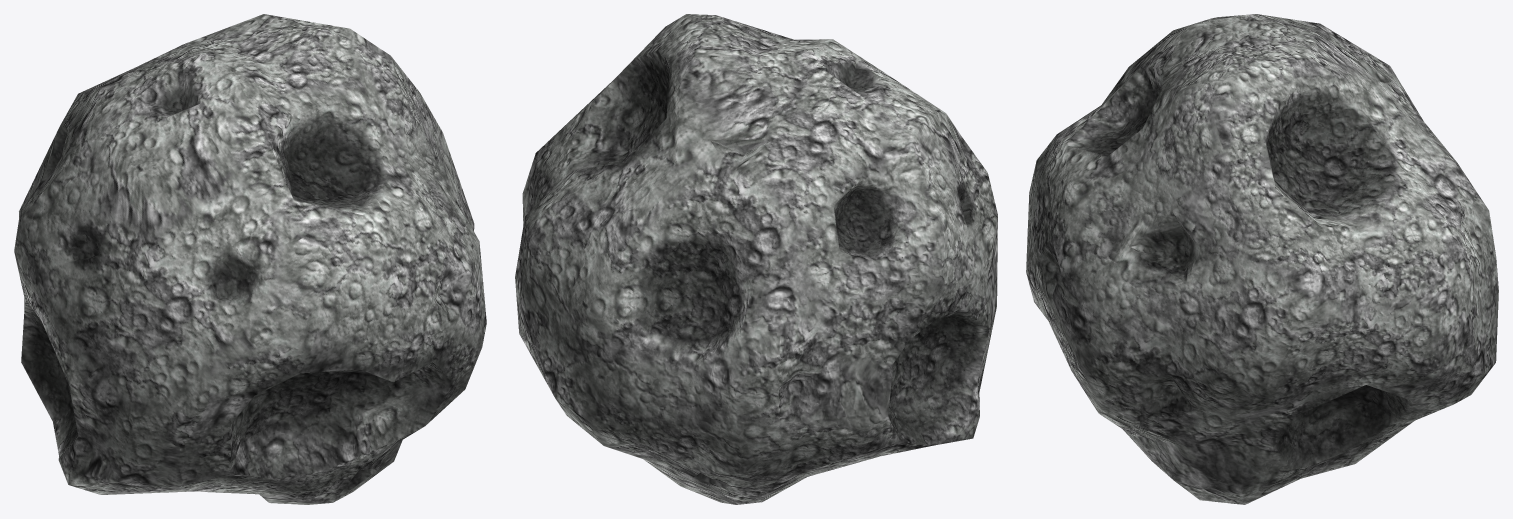
The model's file is asteroid.obj.
The picture shows the model from 3 angles, left to right: view 1: azimuth 30°, elevation 25°; view 2: azimuth 150°, elevation 25°; view 3: azimuth 270°, elevation 25°; orthographic projection. The views are drawn at different scales.
Parts seen in each view (by area): view 1: Asteroid_Mob_01_Asteroid_01_0; view 2: Asteroid_Mob_01_Asteroid_01_0; view 3: Asteroid_Mob_01_Asteroid_01_0.
Boxes of the visible parts, <box> form: Asteroid_Mob_01_Asteroid_01_0: <box>14,14,486,504</box>; Asteroid_Mob_01_Asteroid_01_0: <box>515,14,997,504</box>; Asteroid_Mob_01_Asteroid_01_0: <box>1026,14,1498,504</box>.
Bounding box in the file's own units: 231 × 236 × 229.
Materials: 2 (1 with a texture image).
